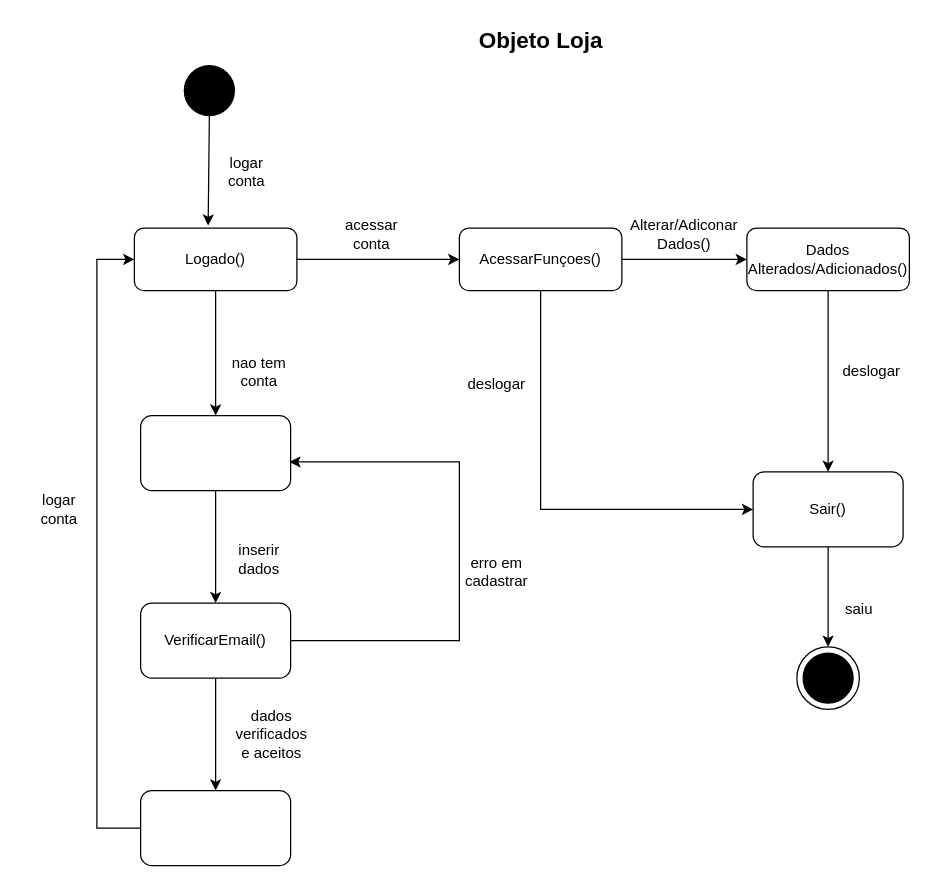
This 931x888 diagram has some shape labels left out. The shapes that lost their labels are listed below. From the top down, each one's box as (x1, y1, x2, y2) in pixels, then its label:
(139, 414, 291, 491): Cadastrar-se()
(139, 789, 291, 866): ContaCriada()
